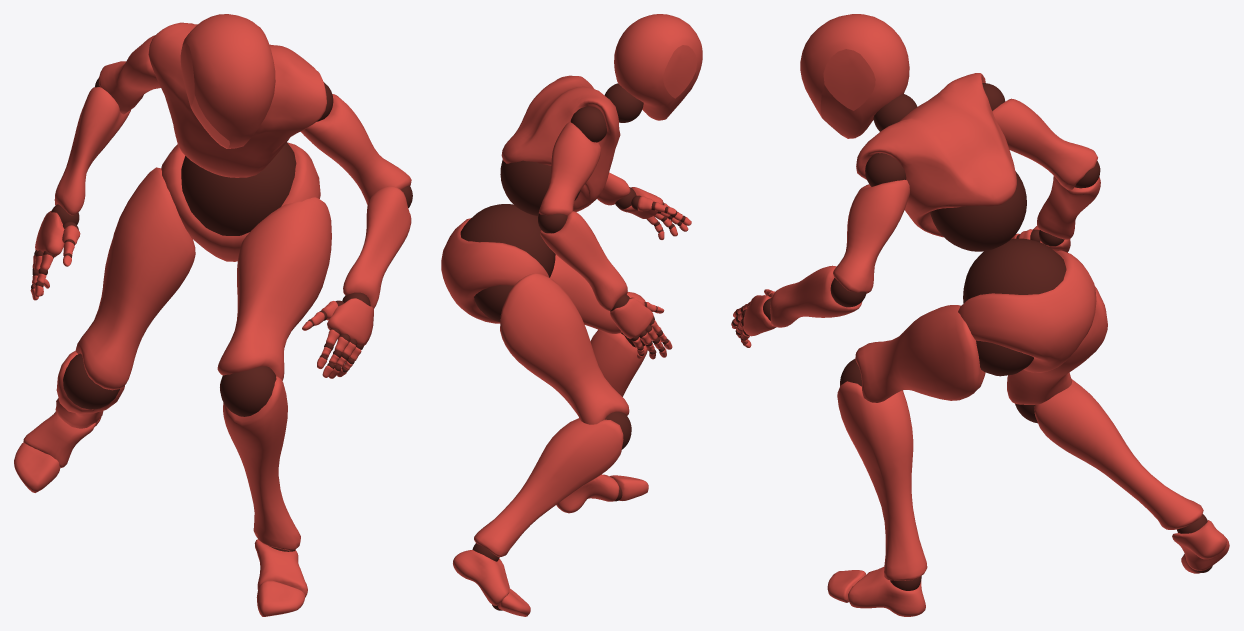
3 renders of one model, left to right at view 1: azimuth 30°, elevation 25°; view 2: azimuth 150°, elevation 25°; view 3: azimuth 270°, elevation 25°, orthographic. The views are drawn at different scales.
Visible parts, largest first — view 1: Beta_Surface, Beta_Joints; view 2: Beta_Surface, Beta_Joints; view 3: Beta_Surface, Beta_Joints.
Boxes of the visible parts, x1,y1,x2,y2 form: Beta_Surface: (14,14,411,616); Beta_Joints: (31,78,412,551); Beta_Surface: (441,14,702,616); Beta_Joints: (460,83,685,610); Beta_Surface: (731,14,1229,616); Beta_Joints: (732,83,1212,590).
Size of the model in its own units: 0.6797 by 1.37 by 1.11.
